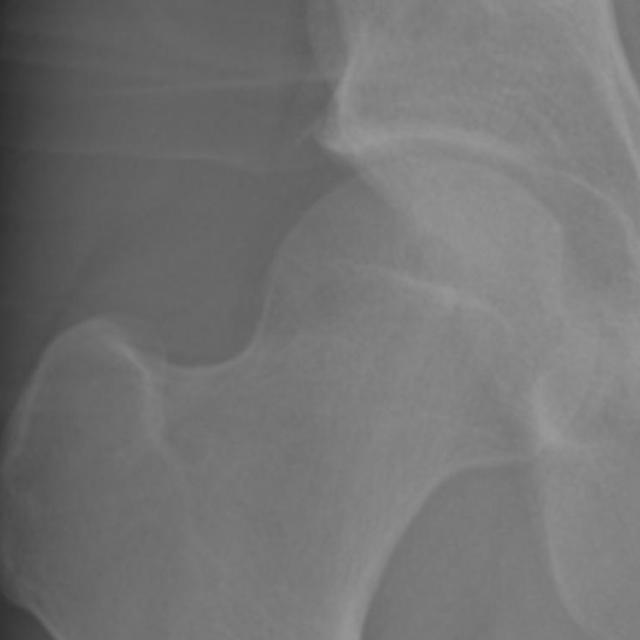Fitted_femural_head: (331, 158, 432, 331)
